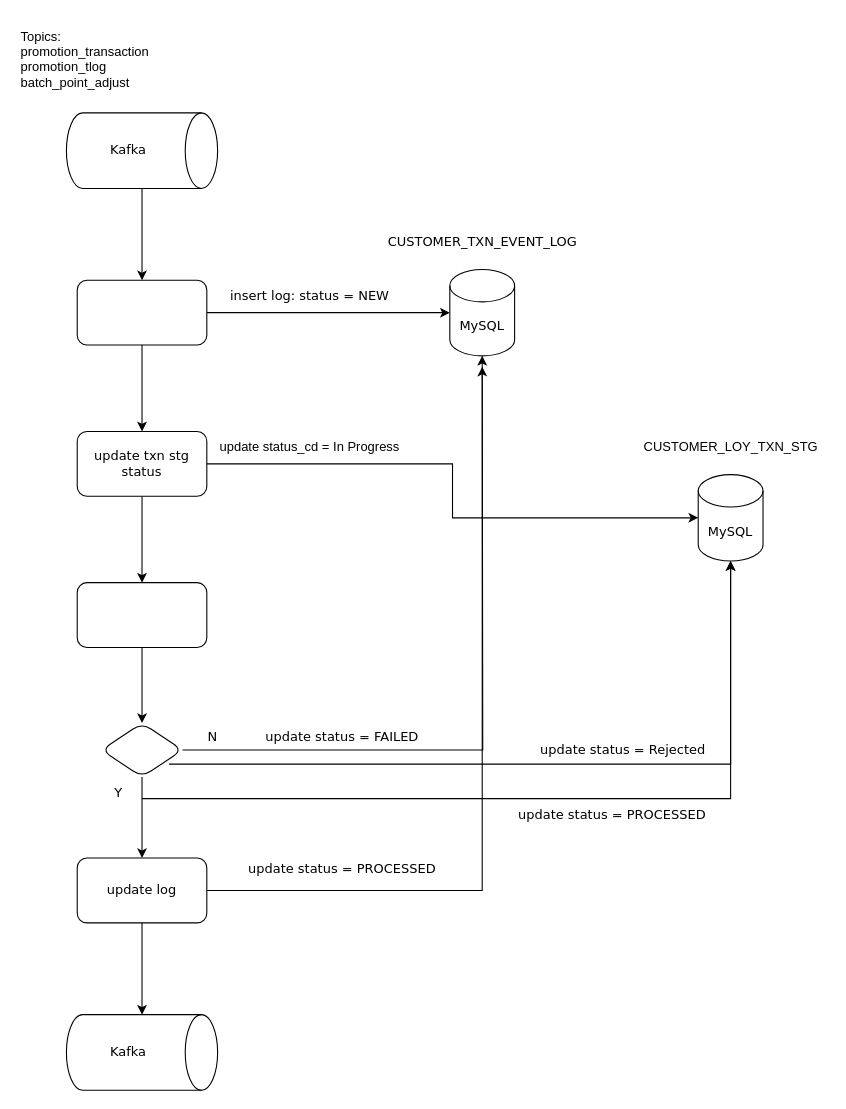
Image size: 846x1109. Some labels were removed from this diagram. Each missing label, with the box of its shape:
non-pos-promo-service consumer: (76, 279, 207, 345)
Promotion calcualtion: (76, 582, 207, 647)
success: (100, 722, 183, 777)
